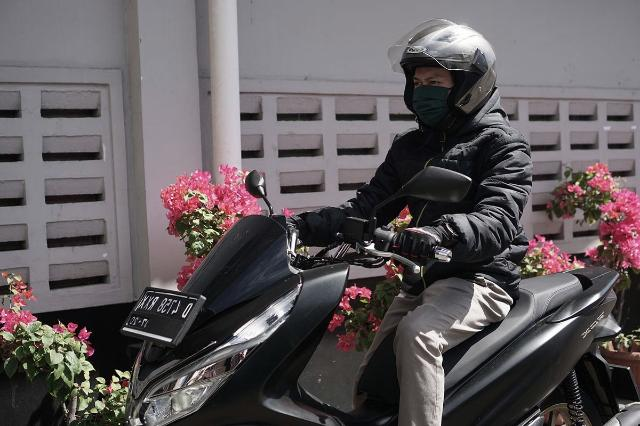helm: (393, 22, 501, 134)
motor: (128, 168, 629, 426)
